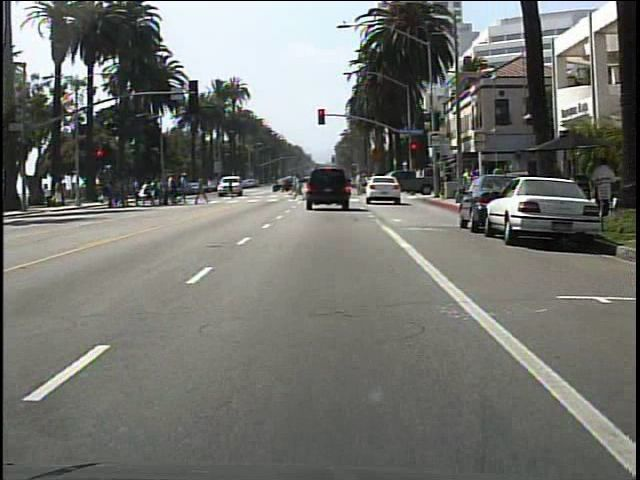person: (586, 154, 618, 221), (351, 165, 368, 202), (223, 175, 242, 203)
